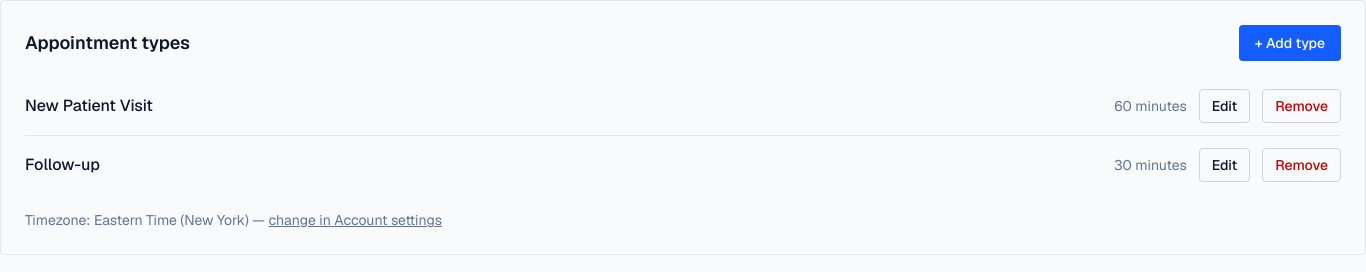
it: AppointmentTypesSection › requires confirmation before removing an appointment type, and only DELETEs after confirming
Click the button with aria-label "Remove Follow-up appointment type" at (1302, 165), box [1262,148,1341,182]
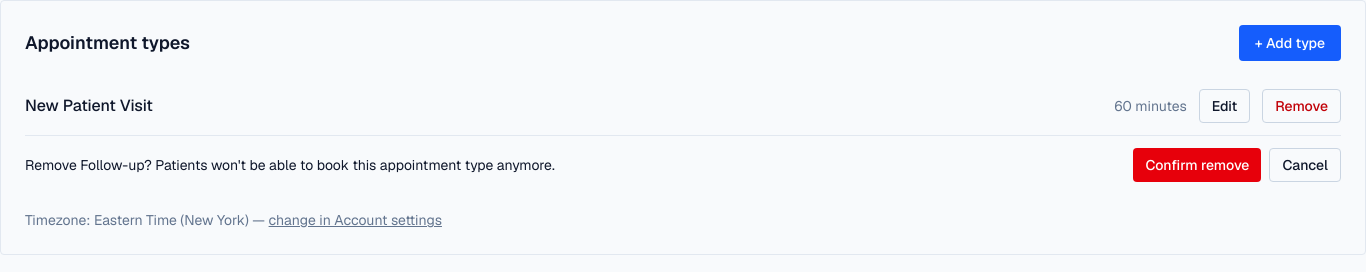
Now the text "Remove Follow-up?" is shown, box [25,155,555,175]
Click the button "Cancel" at (1305, 165), box [1269,148,1341,182]
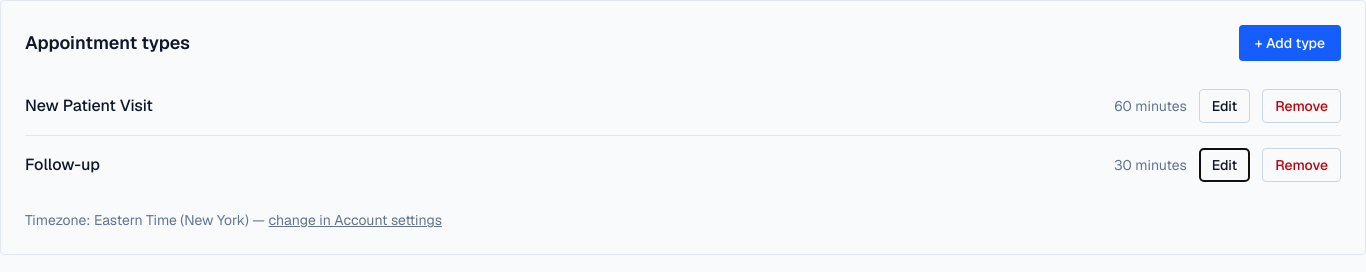
Expected: the text "Follow-up" is shown, [25,153,100,177]
Click the button with aria-label "Remove Follow-up appointment type" at (1302, 165), box [1262,148,1341,182]
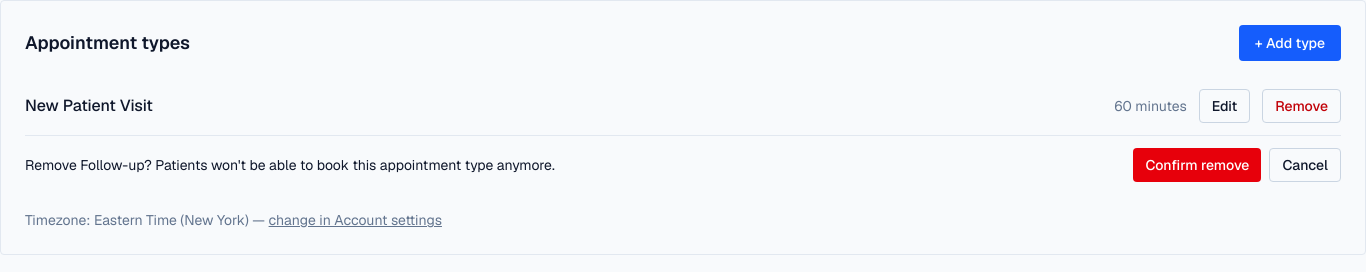
Click the button "Confirm remove" at (1197, 165), box [1133,148,1261,182]
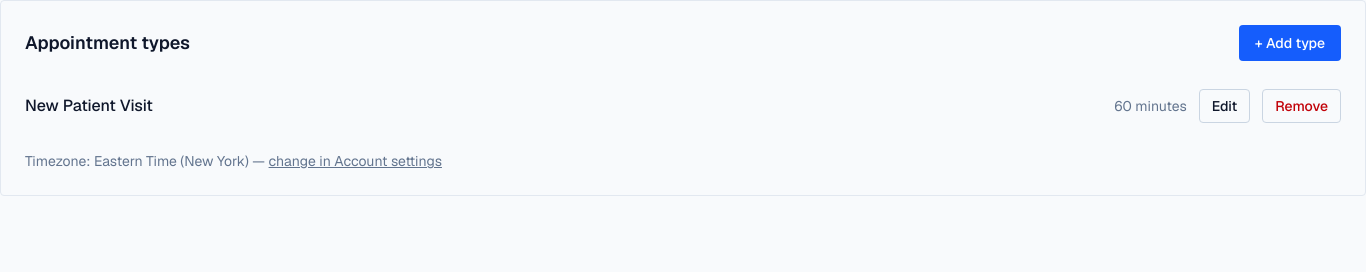
Expected: the button "+ Add type" is shown, [1239,25,1341,61]
Now the text "Follow-up" is gone
